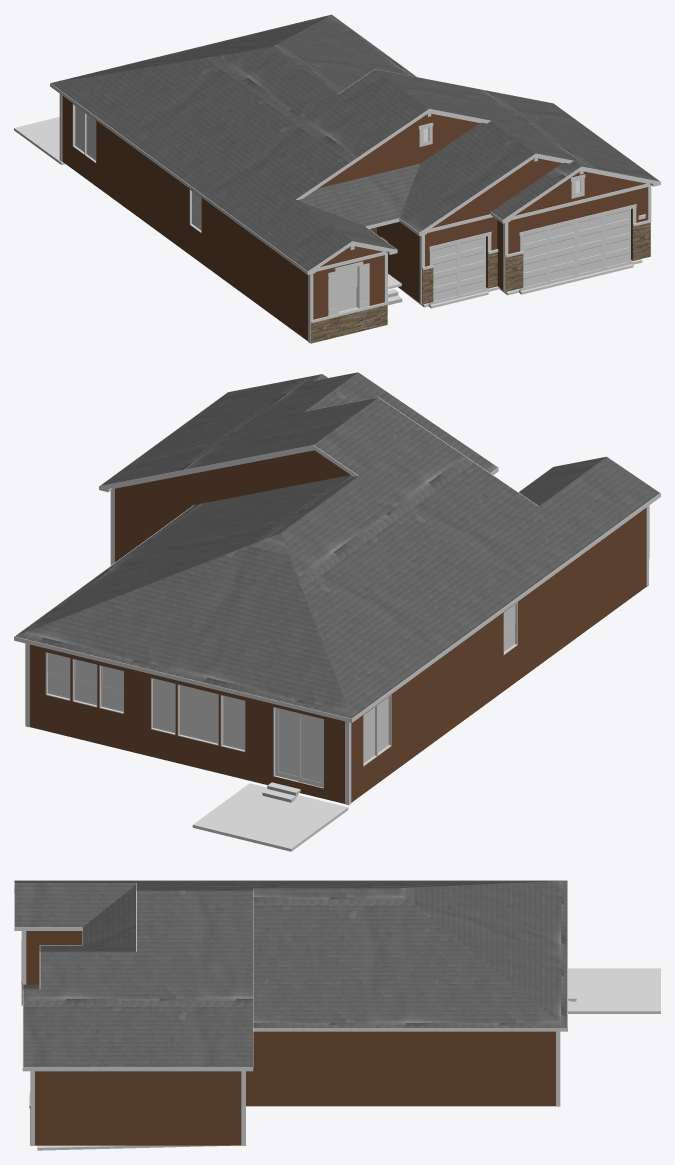
The model's file is 139-1851-dm-foothills.glb.
The picture shows the model from 3 angles, top to bottom: view 1: azimuth 30°, elevation 25°; view 2: azimuth 150°, elevation 25°; view 3: azimuth 270°, elevation 25°; orthographic projection. The views are drawn at different scales.
Parts seen in each view (by area): view 1: Basic Roof Wood Rafter 4" - Asphalt Shingle - Insulated_0fe1, Basic Roof Wood Rafter 4" - Asphalt Shingle - Insulated_c269, Basic Roof Wood Rafter 4" - Asphalt Shingle - Insulated_4d10, Basic Wall BSB Exterior - Stud_5.5" - Sheathing_0.5" - _ed29, Basic Wall BSB Exterior - Stud_5.5" - Sheathing_0.5" - _146a, Craftsman - BSB Exterior - Overhead Garage Door - Clopa_8353, Basic Roof Wood Rafter 4" - Asphalt Shingle - Insulated_4ff8, Fascia Fascia-Flat 1x6 w/ 12" Soffit Bd [3806494], Basic Roof Wood Rafter 4" - Asphalt Shingle - Insulated_3f23, Basic Wall BSB Exterior - Stud_1.5" - Sheathing_0.5" - _3c61, Trim - All Foothills Trim - All Foothills [3373274], Craftsman - BSB Exterior - Overhead Garage Door - Clopa_0dd5 (+16 smaller); view 2: Basic Roof Wood Rafter 4" - Asphalt Shingle - Insulated_0fe1, Basic Roof Wood Rafter 4" - Asphalt Shingle - Insulated_c269, Basic Wall BSB Exterior - Stud_5.5" - Sheathing_0.5" - _5f6d, Basic Wall BSB Exterior - Stud_5.5" - Sheathing_0.5" - _ed29, Basic Wall BSB Exterior - Stud_5.5" - Sheathing_0.5" - _146a, Basic Roof Wood Rafter 4" - Asphalt Shingle - Insulated_4d10, Basic Roof Wood Rafter 4" - Asphalt Shingle - Insulated_4ff8, Basic Wall BSB Exterior - Stud_1.5" - Sheathing_0.5" - _41b3, Floor BSB Concrete Slab - 4" - Slope Option [3004667], Fascia Fascia-Flat 1x6 w/ 12" Soffit Bd [3806494], BSB Exterior - SGD XO - 1-Lite 6080 [3004582], Basic Wall BSB Exterior - Stud_3.5" - Sheathing_0.5" - _2398 (+11 smaller); view 3: Basic Roof Wood Rafter 4" - Asphalt Shingle - Insulated_0fe1, Basic Wall BSB Exterior - Stud_5.5" - Sheathing_0.5" - _0ba8, Basic Roof Wood Rafter 4" - Asphalt Shingle - Insulated_c269, Basic Roof Wood Rafter 4" - Asphalt Shingle - Insulated_4d10, Basic Wall BSB Exterior - Stud_3.5" - Sheathing_0.5" - _b788, Basic Wall BSB Exterior - Stud_3.5" - Sheathing_0.5" - _217e, Basic Roof Wood Rafter 4" - Asphalt Shingle - Insulated_4ff8, Floor BSB Concrete Slab - 4" - Slope Option [3004667], Fascia Fascia-Flat 1x6 w/ 12" Soffit Bd [3806494], Basic Wall BSB Exterior - Stud_3.5" - Sheathing_0.5" - _d22b, Basic Roof Wood Rafter 4" - Asphalt Shingle - Insulated_3f23, Trim - All Foothills Trim - All Foothills [3373274] (+4 smaller).
Boxes of the visible parts, x1=… form: Basic Roof Wood Rafter 4" - Asphalt Shingle - Insulated_0fe1: x1=51, y1=14, x2=416, y2=189; Basic Roof Wood Rafter 4" - Asphalt Shingle - Insulated_c269: x1=197, y1=69, x2=606, y2=229; Basic Roof Wood Rafter 4" - Asphalt Shingle - Insulated_4d10: x1=400, y1=120, x2=659, y2=232; Basic Wall BSB Exterior - Stud_5.5" - Sheathing_0.5" - _ed29: x1=62, y1=96, x2=174, y2=243; Basic Wall BSB Exterior - Stud_5.5" - Sheathing_0.5" - _146a: x1=175, y1=178, x2=278, y2=319; Craftsman - BSB Exterior - Overhead Garage Door - Clopa_8353: x1=519, y1=209, x2=632, y2=291; Basic Roof Wood Rafter 4" - Asphalt Shingle - Insulated_4ff8: x1=251, y1=199, x2=396, y2=271; Fascia Fascia-Flat 1x6 w/ 12" Soffit Bd [3806494]: x1=50, y1=14, x2=660, y2=274; Basic Roof Wood Rafter 4" - Asphalt Shingle - Insulated_3f23: x1=298, y1=163, x2=420, y2=226; Basic Wall BSB Exterior - Stud_1.5" - Sheathing_0.5" - _3c61: x1=318, y1=113, x2=479, y2=188; Trim - All Foothills Trim - All Foothills [3373274]: x1=59, y1=94, x2=651, y2=343; Craftsman - BSB Exterior - Overhead Garage Door - Clopa_0dd5: x1=429, y1=236, x2=487, y2=304; Basic Roof Wood Rafter 4" - Asphalt Shingle - Insulated_0fe1: x1=15, y1=475, x2=526, y2=718; Basic Roof Wood Rafter 4" - Asphalt Shingle - Insulated_c269: x1=100, y1=397, x2=591, y2=590; Basic Wall BSB Exterior - Stud_5.5" - Sheathing_0.5" - _5f6d: x1=29, y1=644, x2=344, y2=803; Basic Wall BSB Exterior - Stud_5.5" - Sheathing_0.5" - _ed29: x1=351, y1=625, x2=485, y2=802; Basic Wall BSB Exterior - Stud_5.5" - Sheathing_0.5" - _146a: x1=486, y1=534, x2=610, y2=703; Basic Roof Wood Rafter 4" - Asphalt Shingle - Insulated_4d10: x1=165, y1=372, x2=497, y2=472; Basic Roof Wood Rafter 4" - Asphalt Shingle - Insulated_4ff8: x1=519, y1=456, x2=659, y2=542; Basic Wall BSB Exterior - Stud_1.5" - Sheathing_0.5" - _41b3: x1=116, y1=450, x2=350, y2=506; Floor BSB Concrete Slab - 4" - Slope Option [3004667]: x1=192, y1=783, x2=348, y2=851; Fascia Fascia-Flat 1x6 w/ 12" Soffit Bd [3806494]: x1=14, y1=372, x2=660, y2=722; BSB Exterior - SGD XO - 1-Lite 6080 [3004582]: x1=273, y1=707, x2=323, y2=788; Basic Wall BSB Exterior - Stud_3.5" - Sheathing_0.5" - _2398: x1=115, y1=488, x2=190, y2=561; Basic Roof Wood Rafter 4" - Asphalt Shingle - Insulated_0fe1: x1=253, y1=880, x2=567, y2=1027; Basic Wall BSB Exterior - Stud_5.5" - Sheathing_0.5" - _0ba8: x1=246, y1=1031, x2=555, y2=1106; Basic Roof Wood Rafter 4" - Asphalt Shingle - Insulated_c269: x1=136, y1=880, x2=252, y2=1067; Basic Roof Wood Rafter 4" - Asphalt Shingle - Insulated_4d10: x1=23, y1=945, x2=136, y2=1067; Basic Wall BSB Exterior - Stud_3.5" - Sheathing_0.5" - _b788: x1=99, y1=1071, x2=171, y2=1145; Basic Wall BSB Exterior - Stud_3.5" - Sheathing_0.5" - _217e: x1=172, y1=1071, x2=241, y2=1145; Basic Roof Wood Rafter 4" - Asphalt Shingle - Insulated_4ff8: x1=14, y1=880, x2=136, y2=927; Floor BSB Concrete Slab - 4" - Slope Option [3004667]: x1=568, y1=968, x2=660, y2=1013; Fascia Fascia-Flat 1x6 w/ 12" Soffit Bd [3806494]: x1=14, y1=880, x2=567, y2=1071; Basic Wall BSB Exterior - Stud_3.5" - Sheathing_0.5" - _d22b: x1=57, y1=1071, x2=99, y2=1145; Basic Roof Wood Rafter 4" - Asphalt Shingle - Insulated_3f23: x1=82, y1=885, x2=135, y2=947; Trim - All Foothills Trim - All Foothills [3373274]: x1=21, y1=931, x2=560, y2=1145.
Bounding box in the file's own units: 15.89 × 6.83 × 23.19.
3 materials, 2 textured.
